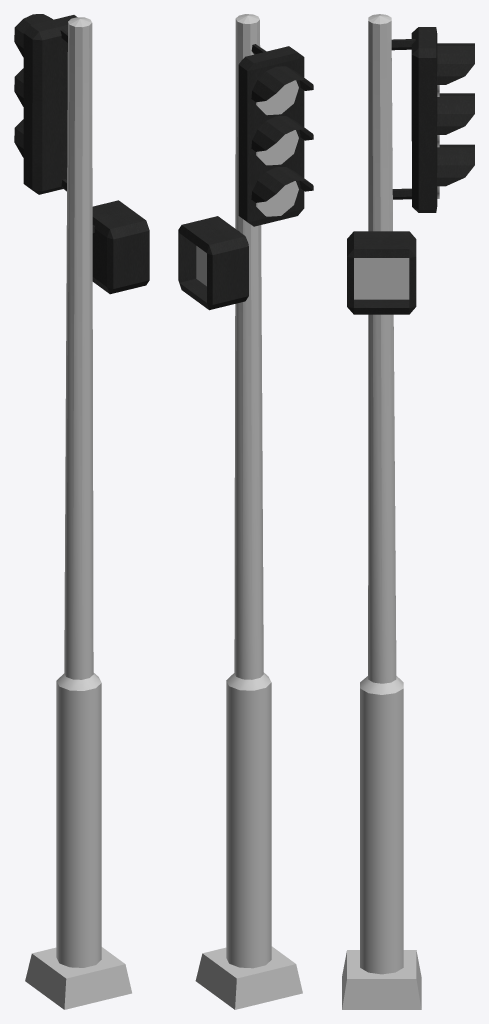
The model's file is D_tlight_1x.FBX.
The picture shows the model from 3 angles, left to right: view 1: azimuth 30°, elevation 25°; view 2: azimuth 210°, elevation 25°; view 3: azimuth 270°, elevation 25°; orthographic projection.
Parts seen in each view (by area): view 1: Object146; view 2: Object146; view 3: Object146.
Boxes of the visible parts, x1=… form: Object146: x1=14, y1=14, x2=149, y2=1009; Object146: x1=178, y1=14, x2=313, y2=1009; Object146: x1=342, y1=14, x2=474, y2=1009.
Bounding box in the file's own units: 1.37 × 1.74 × 14.12.
